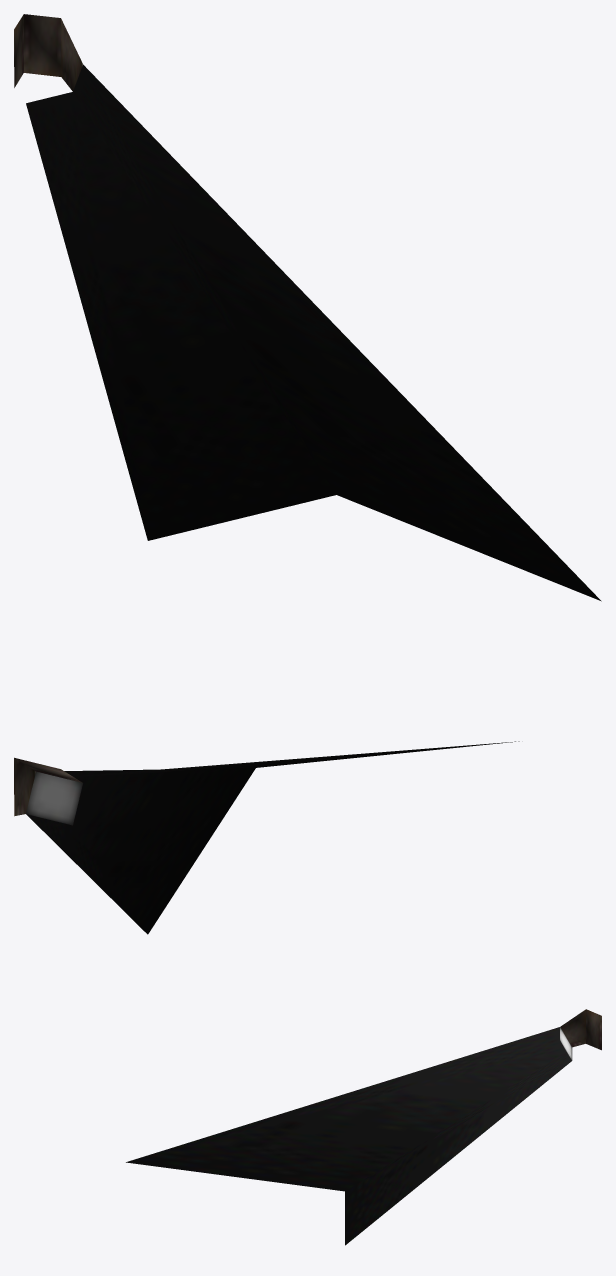
The model's file is prop-066.glb.
3 renders of one model, top to bottom at view 1: azimuth 30°, elevation 25°; view 2: azimuth 150°, elevation 25°; view 3: azimuth 270°, elevation 25°, orthographic. The views are drawn at different scales.
Visible parts, largest first — view 1: root; view 2: root; view 3: root.
Part boxes in pixels (<box>): root: <box>14,14,601,601</box>; root: <box>14,741,519,934</box>; root: <box>126,1009,601,1245</box>.
Size of the model in its own units: 1.48 by 1.41 by 3.7.
Materials: 1 (1 with a texture image).
